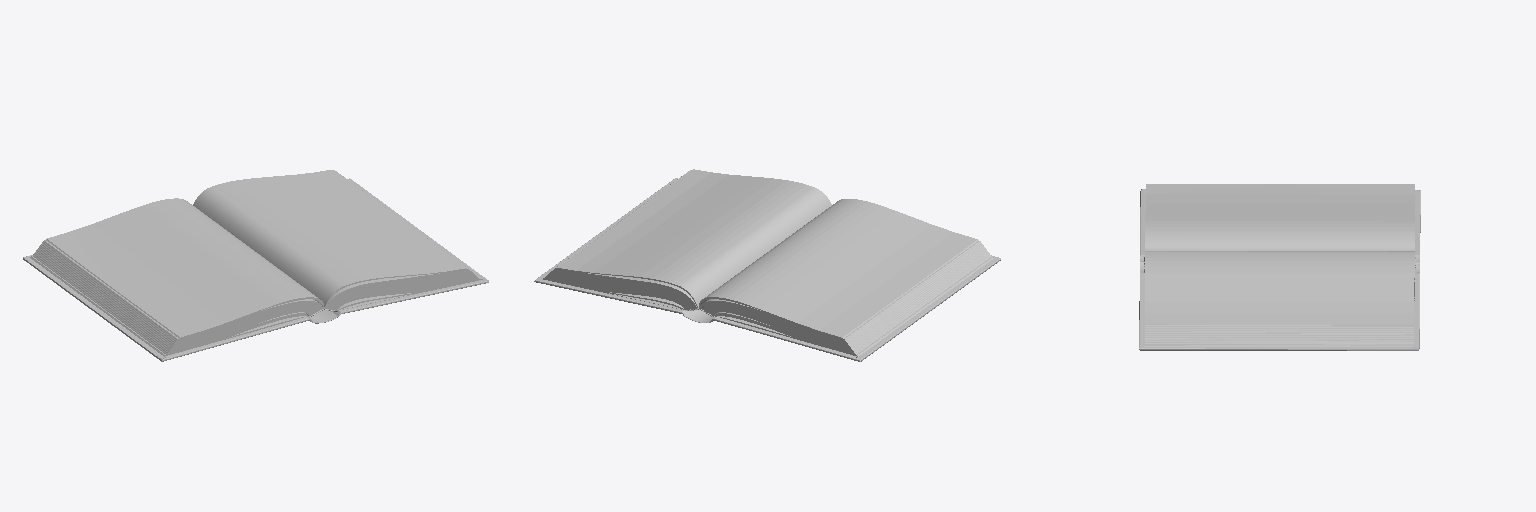
3 views of the same model, side by side, from view 1: azimuth 30°, elevation 25°; view 2: azimuth 150°, elevation 25°; view 3: azimuth 270°, elevation 25° (orthographic).
Parts seen in each view (by area): view 1: qingmo_f01050c0_47b1_46e7_9a45_0fd287ede8a1; view 2: qingmo_f01050c0_47b1_46e7_9a45_0fd287ede8a1; view 3: qingmo_f01050c0_47b1_46e7_9a45_0fd287ede8a1.
Boxes of the visible parts, x1=… form: qingmo_f01050c0_47b1_46e7_9a45_0fd287ede8a1: x1=23, y1=170, x2=488, y2=361; qingmo_f01050c0_47b1_46e7_9a45_0fd287ede8a1: x1=534, y1=169, x2=1000, y2=361; qingmo_f01050c0_47b1_46e7_9a45_0fd287ede8a1: x1=1139, y1=184, x2=1420, y2=350.
Size of the model in its own units: 121 by 10.75 by 90.24.